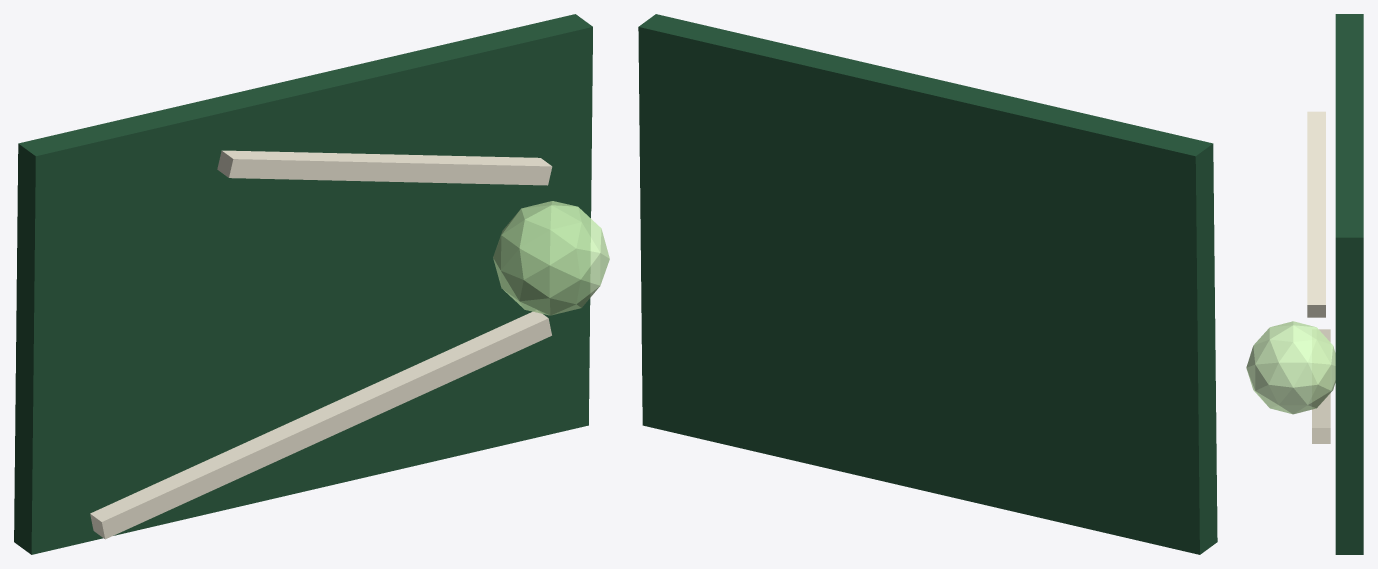
The model's file is 02_world_prop_polish.glb.
3 views of the same model, side by side, from view 1: azimuth 30°, elevation 25°; view 2: azimuth 150°, elevation 25°; view 3: azimuth 270°, elevation 25° (orthographic). The views are drawn at different scales.
Parts seen in each view (by area): view 1: object_overlay_plate, edge_wear_a, glow_socket, edge_wear_b; view 2: object_overlay_plate; view 3: object_overlay_plate, glow_socket, edge_wear_b, edge_wear_a.
Boxes of the visible parts, <box> form: object_overlay_plate: <box>14,14,592,554</box>; edge_wear_a: <box>90,310,551,539</box>; glow_socket: <box>493,201,609,315</box>; edge_wear_b: <box>217,150,552,185</box>; object_overlay_plate: <box>638,14,1217,554</box>; object_overlay_plate: <box>1335,14,1363,554</box>; glow_socket: <box>1246,321,1335,414</box>; edge_wear_b: <box>1307,111,1325,317</box>; edge_wear_a: <box>1312,329,1330,443</box>.
Size of the model in its own units: 1.11 by 0.7622 by 0.25.
